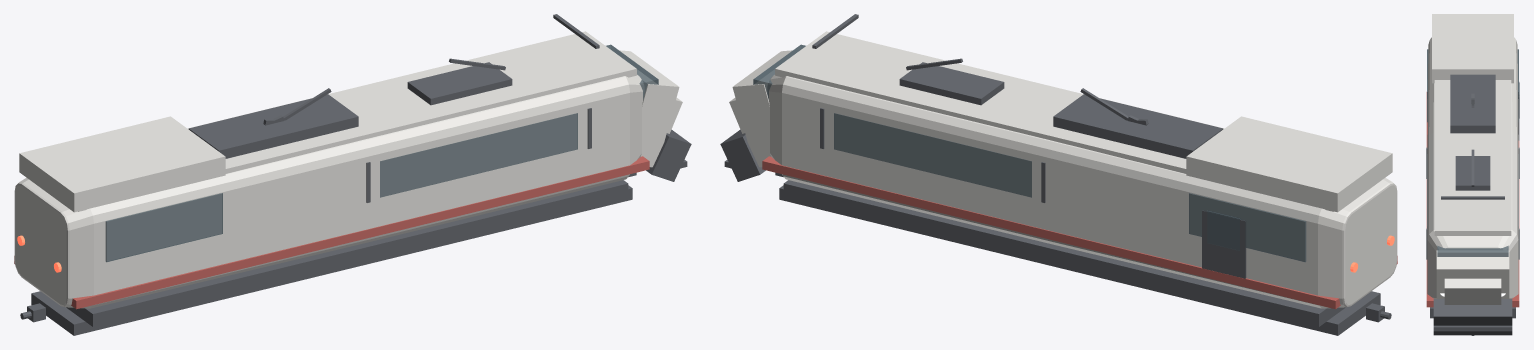
Rendered from TRAIN_HEAD.glb.
The picture shows the model from 3 angles, left to right: view 1: azimuth 30°, elevation 25°; view 2: azimuth 150°, elevation 25°; view 3: azimuth 270°, elevation 25°; orthographic projection. The views are drawn at different scales.
Parts seen in each view (by area): view 1: TRAIN_HEAD_Body, TRAIN_HEAD_Roof, TRAIN_HEAD_Cab, TRAIN_HEAD_Skirt, TRAIN_HEAD_Equip, TRAIN_HEAD_Windows, TRAIN_HEAD_Stripe, TRAIN_HEAD_Windshield, TRAIN_HEAD_Underframe, TRAIN_HEAD_Nose, TRAIN_HEAD_Cowcatcher; view 2: TRAIN_HEAD_Body, TRAIN_HEAD_Roof, TRAIN_HEAD_Cab, TRAIN_HEAD_Skirt, TRAIN_HEAD_Equip, TRAIN_HEAD_Windows, TRAIN_HEAD_Stripe, TRAIN_HEAD_Windshield, TRAIN_HEAD_Underframe, TRAIN_HEAD_Nose, TRAIN_HEAD_Doors, TRAIN_HEAD_Cowcatcher (+1 smaller); view 3: TRAIN_HEAD_Roof, TRAIN_HEAD_Cab, TRAIN_HEAD_Body, TRAIN_HEAD_Equip, TRAIN_HEAD_Nose, TRAIN_HEAD_Cowcatcher, TRAIN_HEAD_Windshield, TRAIN_HEAD_Stripe, TRAIN_HEAD_WinFrames, TRAIN_HEAD_Windows, TRAIN_HEAD_Skirt.
Part boxes in pixels (x1,y1,x2,y2): TRAIN_HEAD_Body: [14, 74, 643, 308]; TRAIN_HEAD_Roof: [78, 31, 636, 211]; TRAIN_HEAD_Cab: [19, 116, 225, 212]; TRAIN_HEAD_Skirt: [66, 180, 628, 326]; TRAIN_HEAD_Equip: [188, 14, 599, 158]; TRAIN_HEAD_Windows: [380, 113, 577, 197]; TRAIN_HEAD_Stripe: [14, 156, 649, 309]; TRAIN_HEAD_Windshield: [105, 44, 658, 262]; TRAIN_HEAD_Underframe: [31, 185, 632, 335]; TRAIN_HEAD_Nose: [619, 50, 682, 167]; TRAIN_HEAD_Cowcatcher: [646, 129, 691, 181]; TRAIN_HEAD_Body: [768, 74, 1397, 308]; TRAIN_HEAD_Roof: [775, 31, 1333, 211]; TRAIN_HEAD_Cab: [1186, 116, 1392, 212]; TRAIN_HEAD_Skirt: [783, 180, 1345, 326]; TRAIN_HEAD_Equip: [812, 14, 1223, 158]; TRAIN_HEAD_Windows: [834, 113, 1031, 197]; TRAIN_HEAD_Stripe: [762, 156, 1397, 309]; TRAIN_HEAD_Windshield: [753, 44, 1306, 262]; TRAIN_HEAD_Underframe: [779, 185, 1380, 335]; TRAIN_HEAD_Nose: [729, 50, 792, 167]; TRAIN_HEAD_Doors: [1202, 210, 1246, 278]; TRAIN_HEAD_Cowcatcher: [720, 129, 765, 181]; TRAIN_HEAD_Roof: [1434, 80, 1511, 235]; TRAIN_HEAD_Cab: [1432, 14, 1513, 83]; TRAIN_HEAD_Body: [1427, 37, 1518, 298]; TRAIN_HEAD_Equip: [1441, 74, 1504, 199]; TRAIN_HEAD_Nose: [1436, 250, 1509, 304]; TRAIN_HEAD_Cowcatcher: [1433, 299, 1512, 335]; TRAIN_HEAD_Windshield: [1427, 49, 1518, 256]; TRAIN_HEAD_Stripe: [1426, 92, 1519, 307]; TRAIN_HEAD_WinFrames: [1426, 147, 1519, 259]; TRAIN_HEAD_Windows: [1427, 154, 1518, 228]; TRAIN_HEAD_Skirt: [1430, 307, 1515, 318].
Size of the model in its own units: 17.69 by 4.31 by 2.97.
